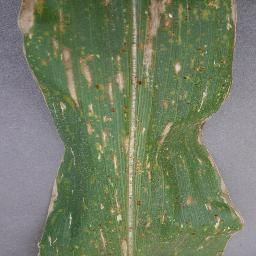Gray_Leaf_Spot: (127, 156, 248, 256), (171, 0, 241, 96), (127, 95, 228, 155), (99, 42, 126, 256), (126, 0, 171, 92), (15, 0, 68, 50), (58, 48, 98, 114), (36, 173, 63, 256), (82, 198, 99, 256), (24, 50, 57, 66), (99, 0, 119, 20), (83, 117, 97, 138), (66, 144, 78, 167), (68, 210, 75, 233)
